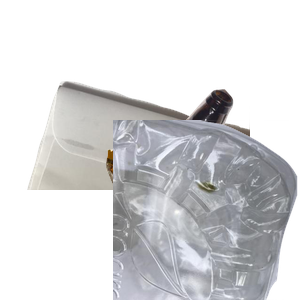glass: (130, 87, 300, 267)
paper: (25, 79, 265, 259)
plastic: (113, 120, 300, 300)
trash: (103, 147, 300, 300)
